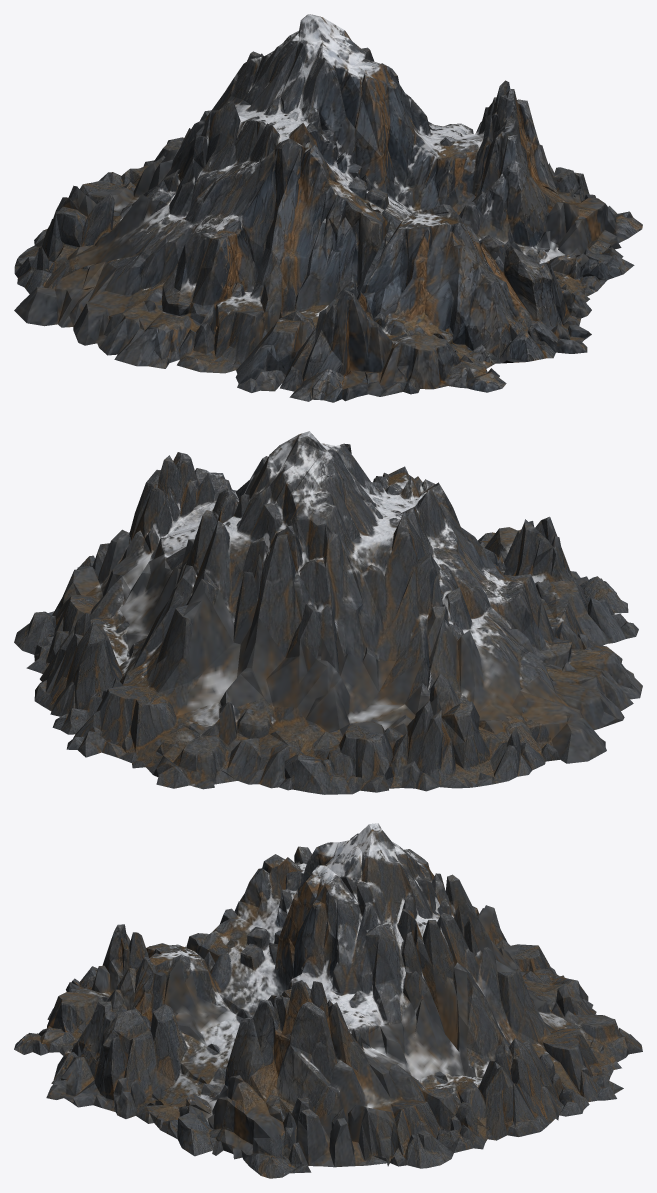
Rendered from peak_low_raw.glb.
3 views of the same model, one above another, from view 1: azimuth 30°, elevation 25°; view 2: azimuth 150°, elevation 25°; view 3: azimuth 270°, elevation 25° (orthographic). The views are drawn at different scales.
Parts seen in each view (by area): view 1: output_unwrapped; view 2: output_unwrapped; view 3: output_unwrapped.
Part boxes in pixels (x1,y1,x2,y2): output_unwrapped: [14, 14, 642, 402]; output_unwrapped: [14, 431, 642, 794]; output_unwrapped: [14, 823, 642, 1178].
Size of the model in its own units: 1.87 by 0.7545 by 1.9.
1 material, 1 textured.
